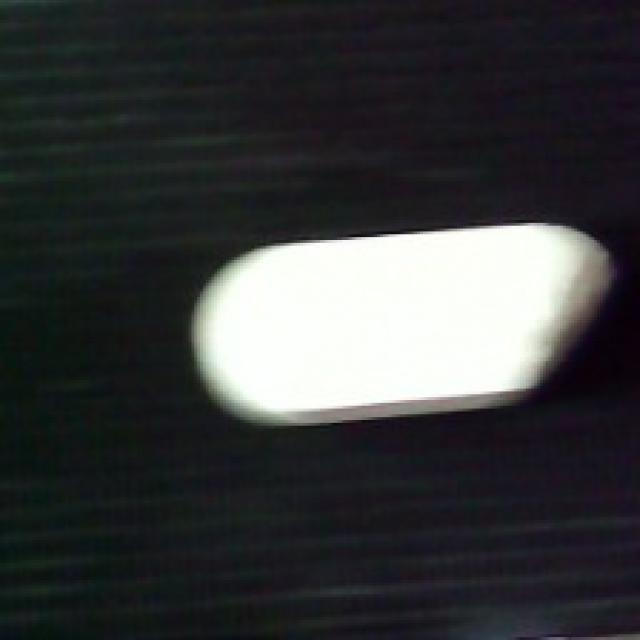defected: (185, 217, 626, 423)
